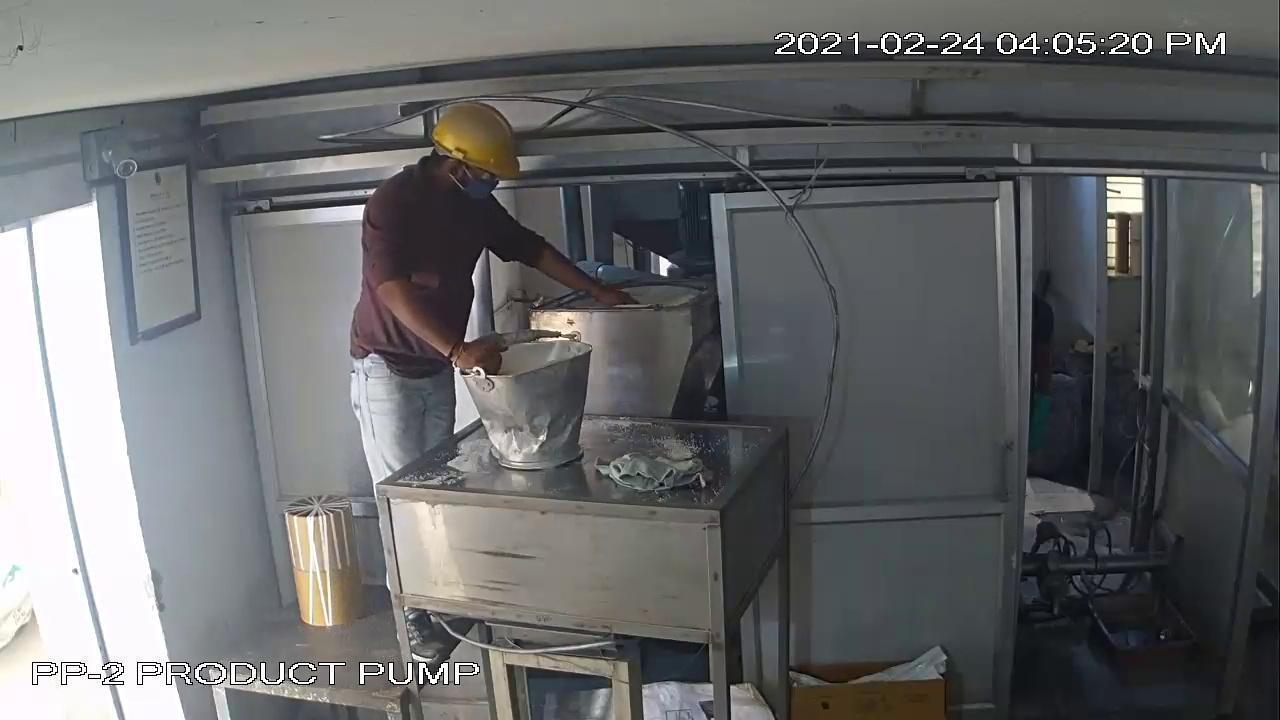helmet: (425, 93, 522, 180)
